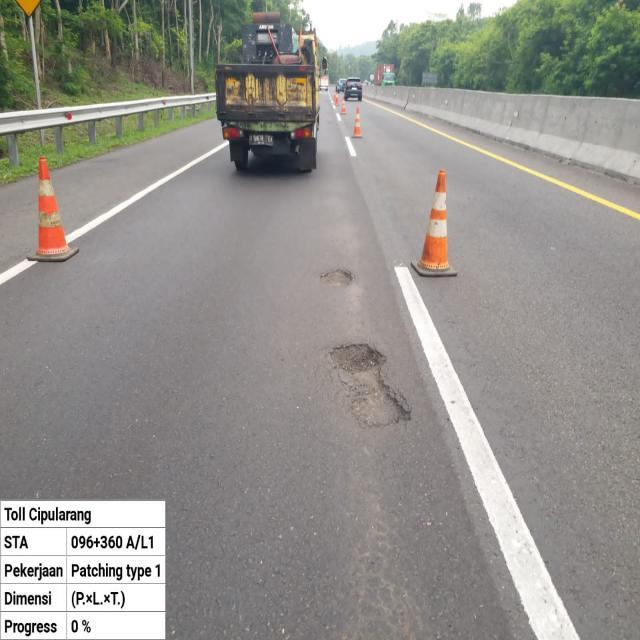Buraco: (326, 342, 414, 431), (318, 266, 357, 290)
